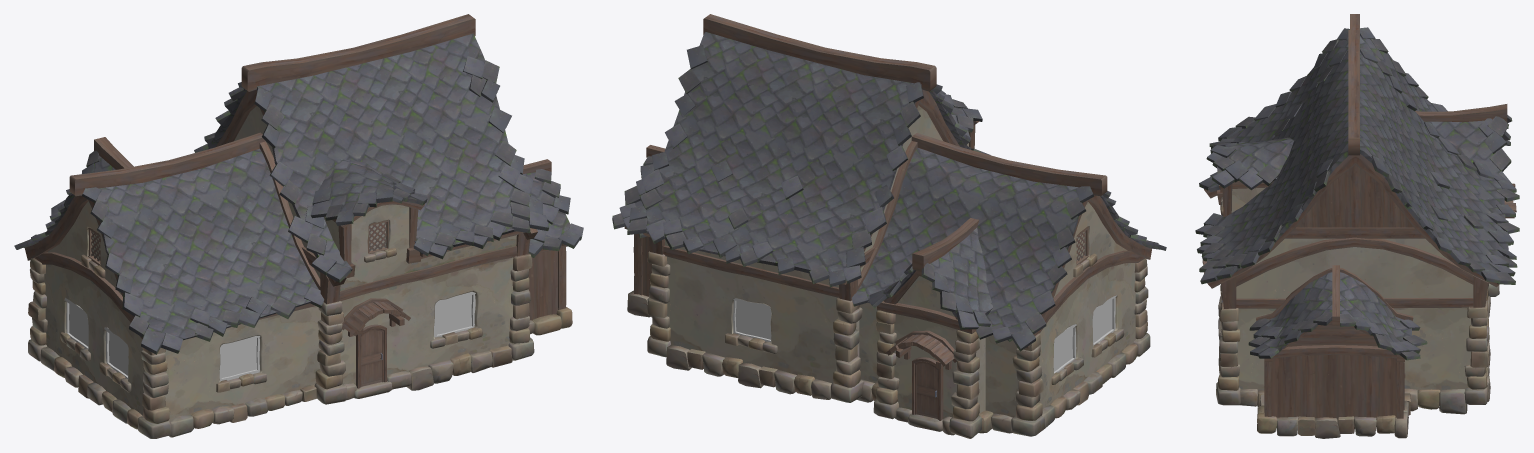
File: Homeworld_Exterior_Md_Build_House_05_Lod0.fbx
3 views of the same model, side by side, from view 1: azimuth 30°, elevation 25°; view 2: azimuth 150°, elevation 25°; view 3: azimuth 270°, elevation 25° (orthographic). The views are drawn at different scales.
Parts seen in each view (by area): view 1: Homeworld_Exterior_Md_Build_House_Main_05_Lod0; view 2: Homeworld_Exterior_Md_Build_House_Main_05_Lod0; view 3: Homeworld_Exterior_Md_Build_House_Main_05_Lod0.
Part boxes in pixels (box(x1,y1,x2,y2)): Homeworld_Exterior_Md_Build_House_Main_05_Lod0: box(14, 14, 583, 438); Homeworld_Exterior_Md_Build_House_Main_05_Lod0: box(612, 14, 1166, 438); Homeworld_Exterior_Md_Build_House_Main_05_Lod0: box(1195, 14, 1519, 438).
Size of what is drawn, in the model's own units: 20.09 by 12.24 by 12.63.
